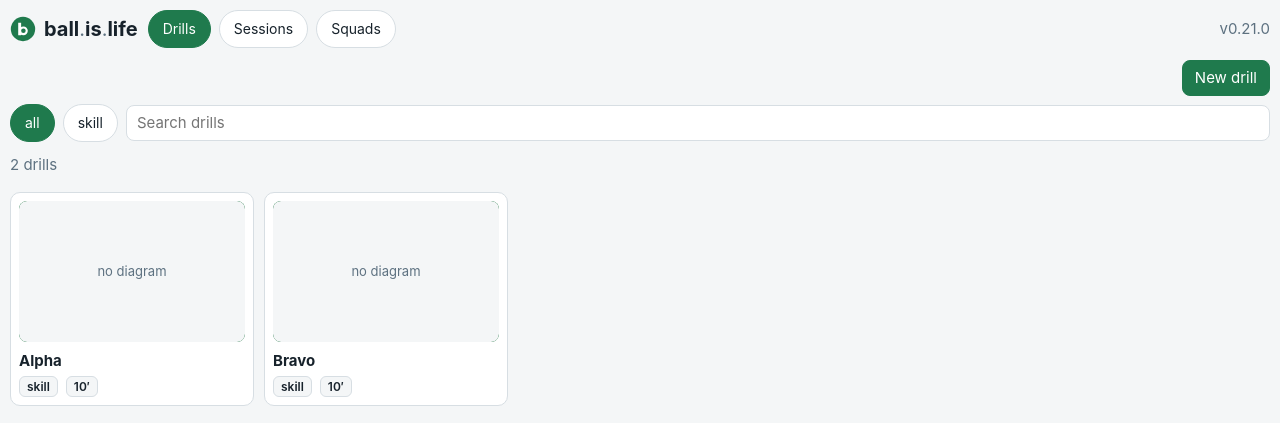
Test: App sessions › loads sessions after the catalogue is ready
Step 1. Click the button "Sessions" → (264, 29), box 219,10 -> 308,48
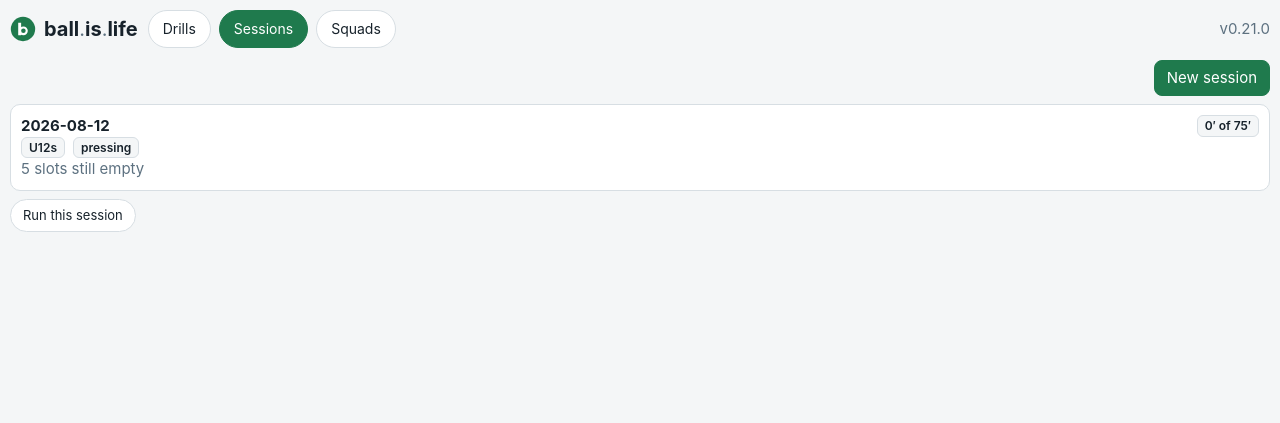
Check: the text "2026-08-12" is shown, box 21,115 -> 110,137
